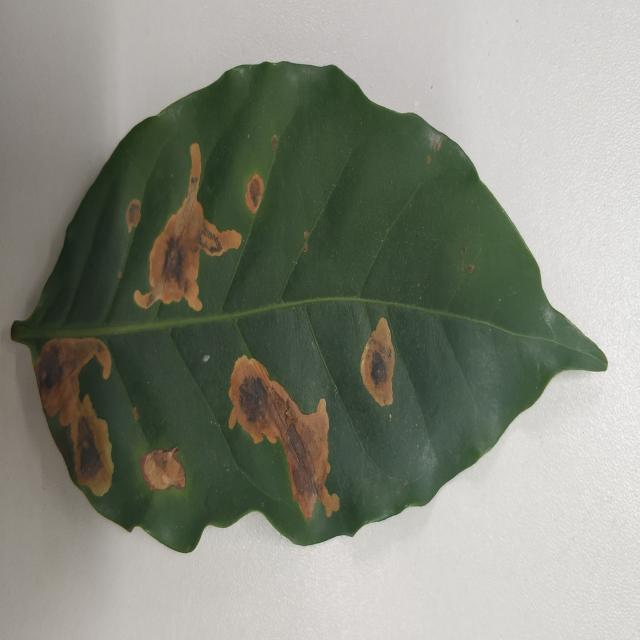Plaga-Minador: (9, 62, 609, 556)
